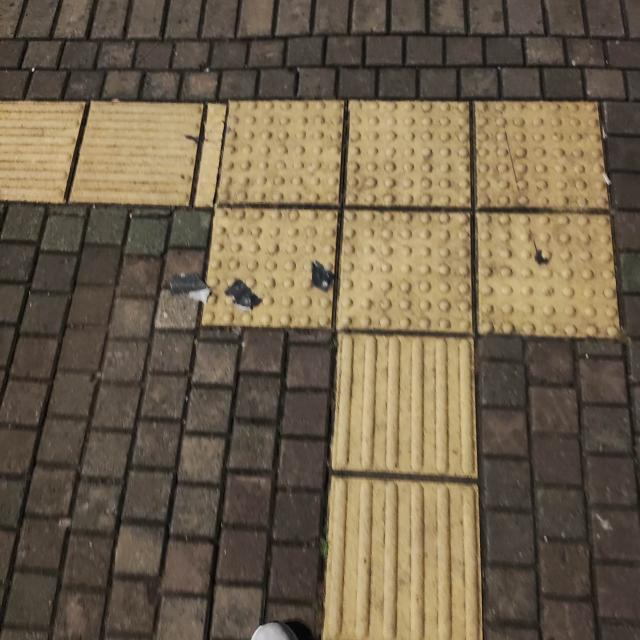kiri: (26, 45, 586, 471)
